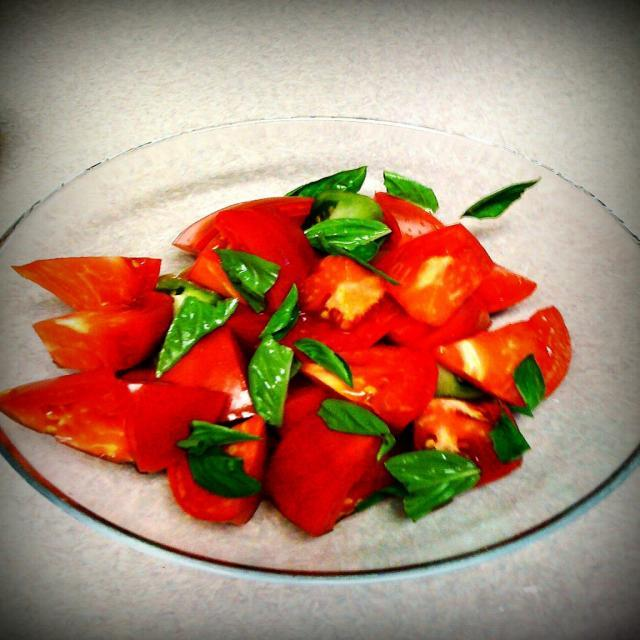Tomato: (0, 206, 568, 537), (172, 193, 312, 262), (9, 254, 165, 312)
